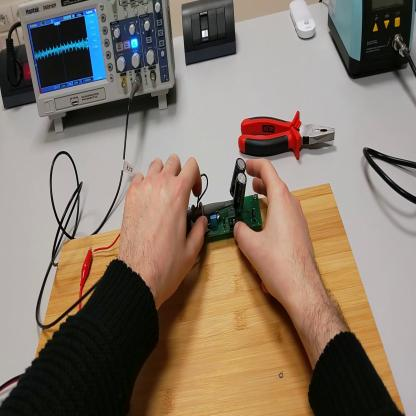hand: (120, 153, 208, 307), (235, 156, 319, 310)
high voltage board: (187, 160, 261, 245)
oscilloscope: (21, 1, 178, 139)
oscilloscope probe tip: (189, 200, 235, 223)
pliers: (239, 109, 338, 159)
socket: (2, 35, 37, 110)
welder station: (330, 1, 414, 82)
working area: (38, 184, 407, 413)
